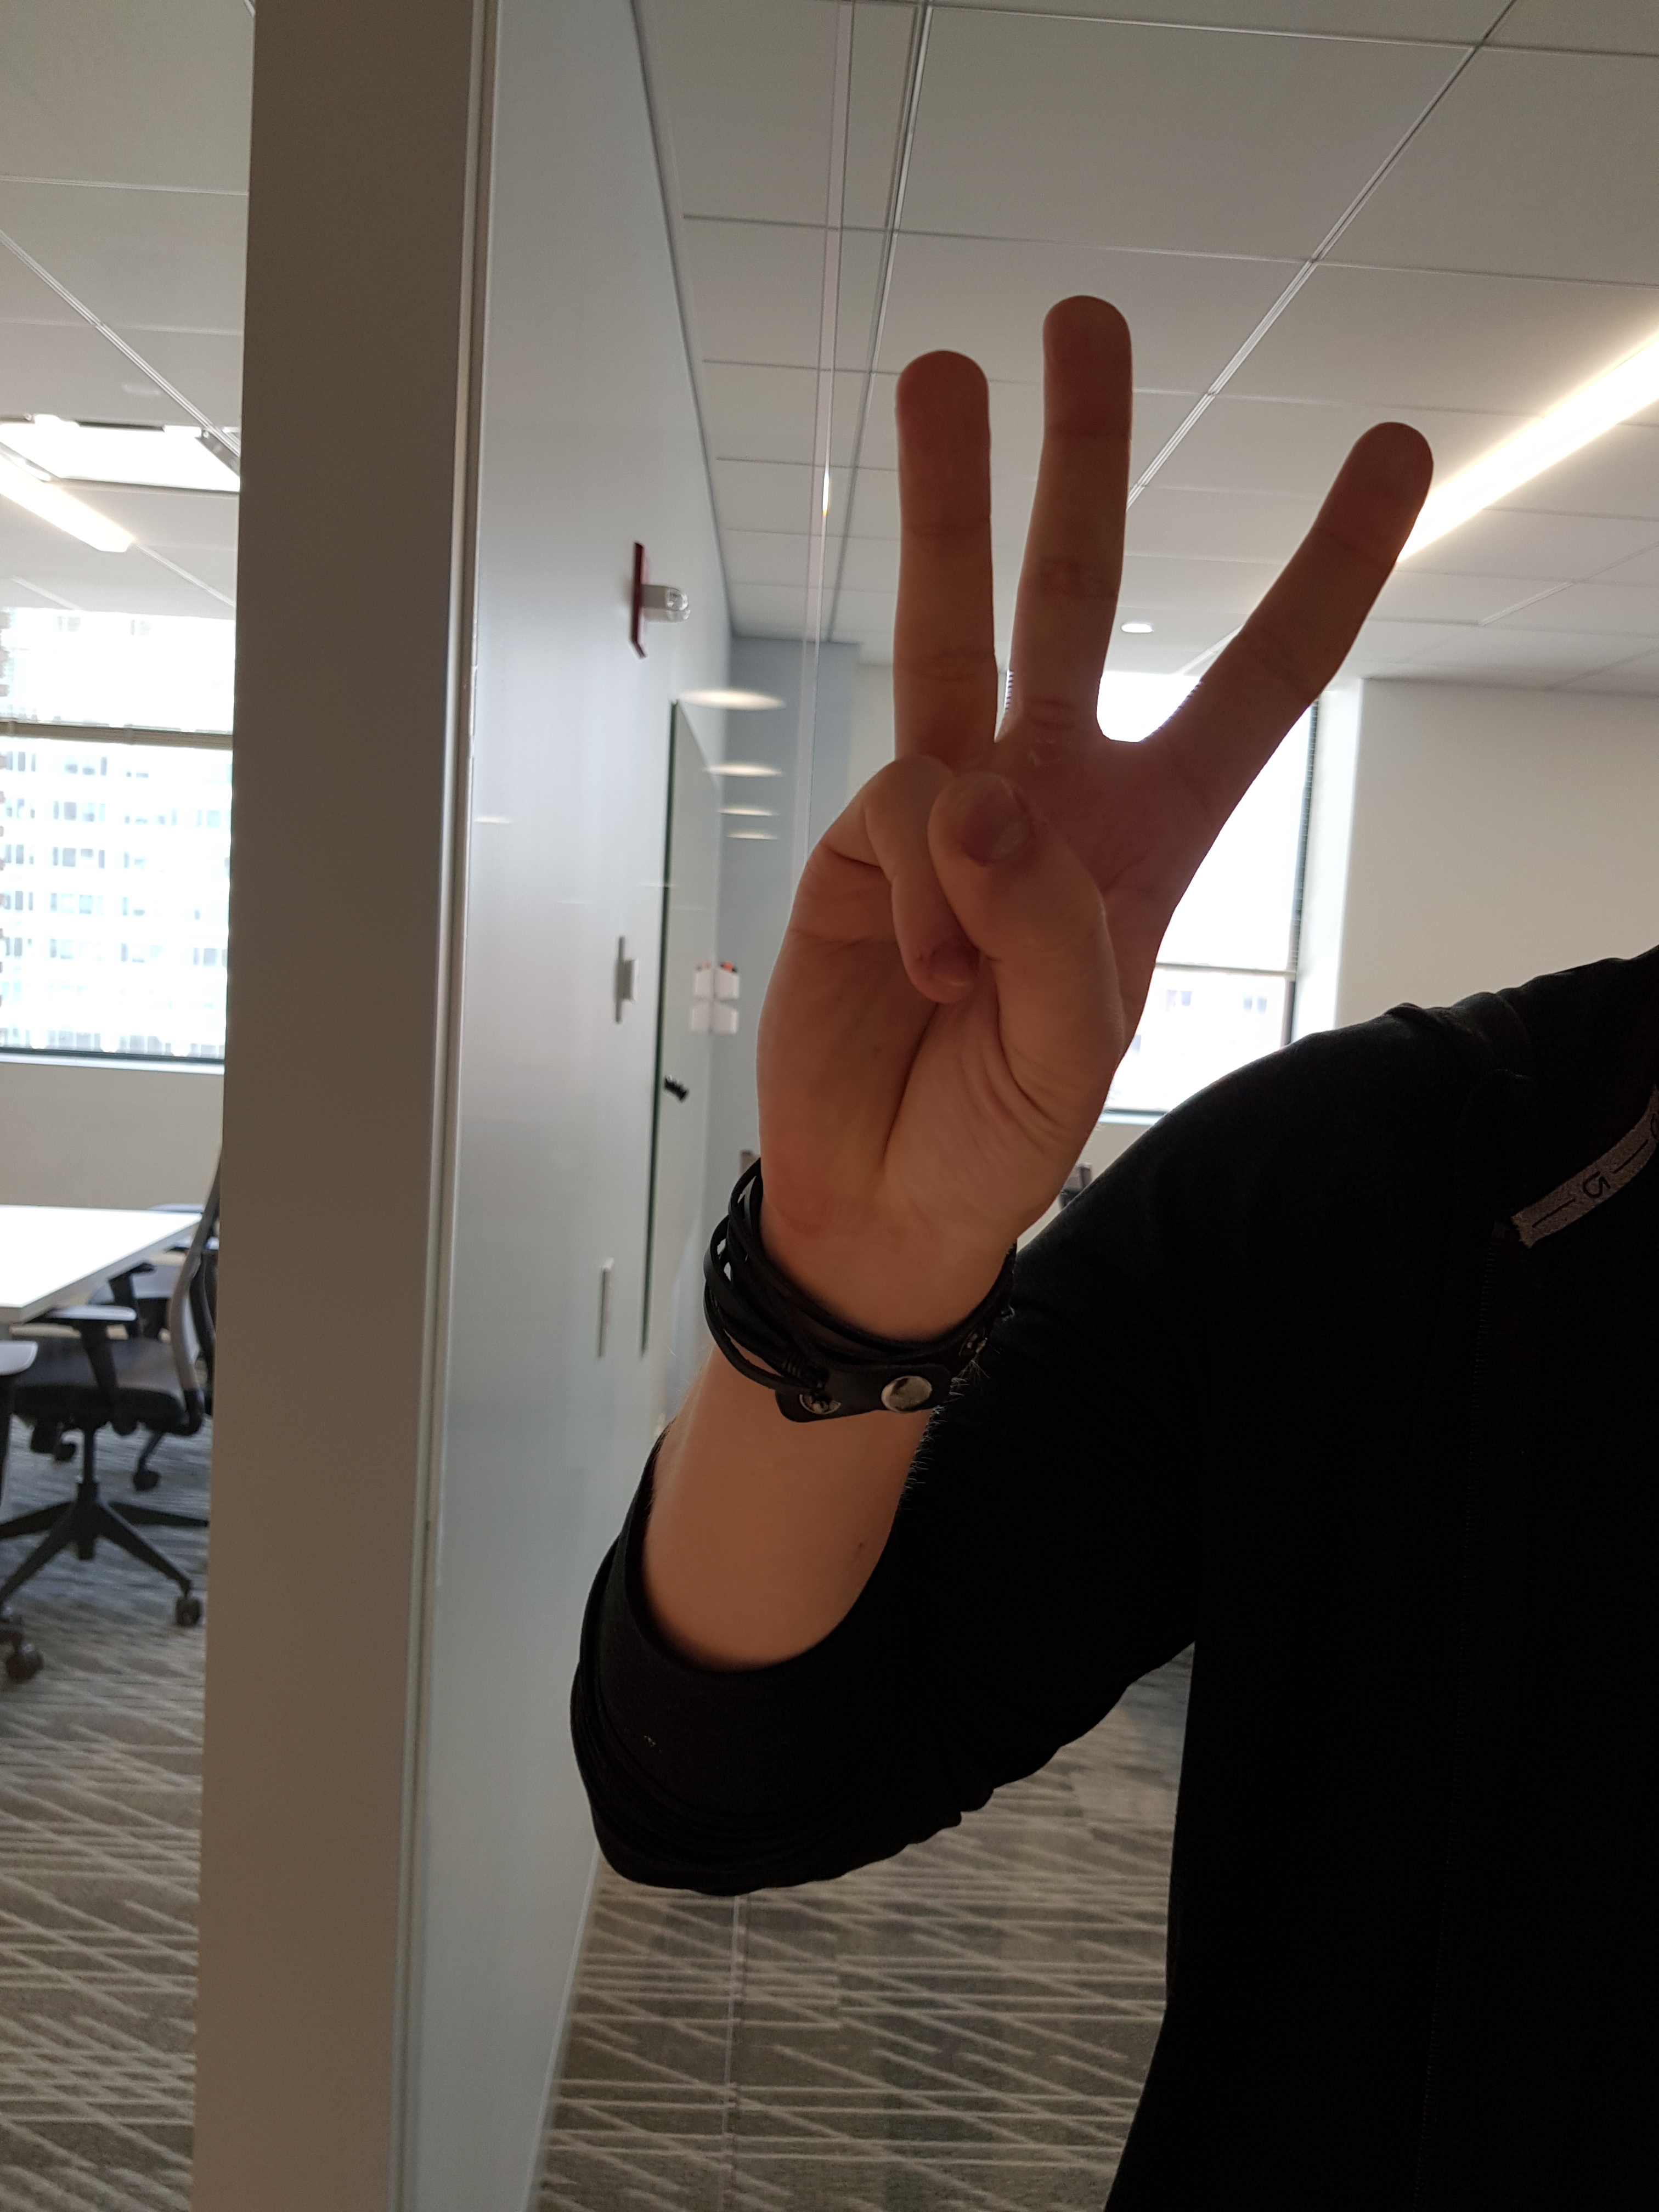w: (742, 284, 1460, 1331)
